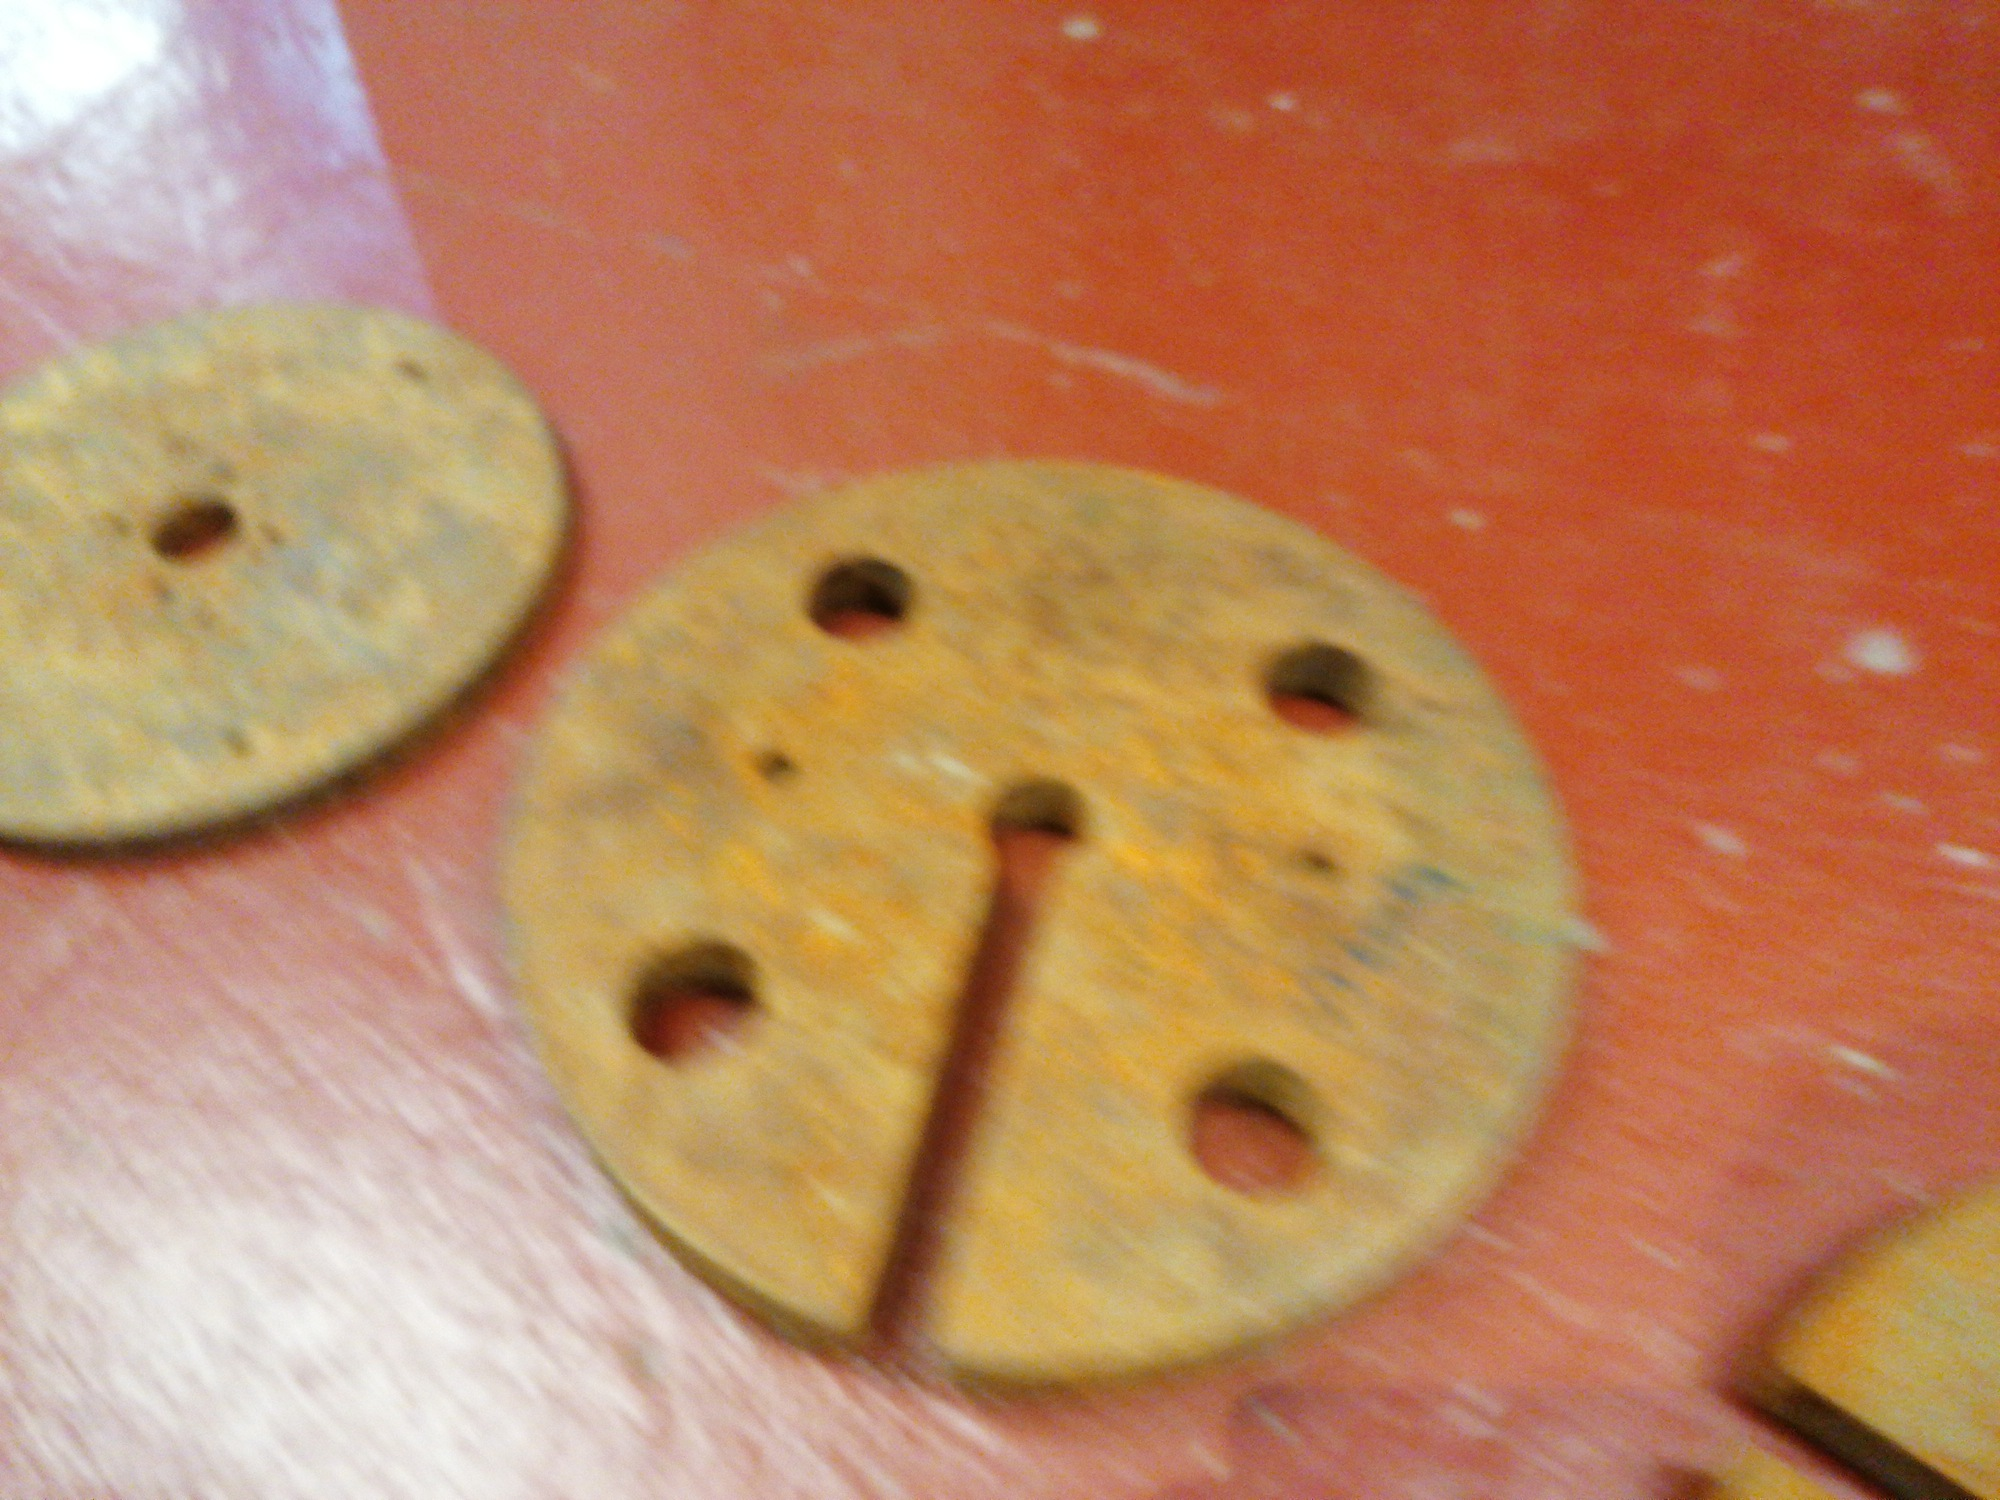flange: (491, 455, 1584, 1405), (0, 296, 580, 868), (1676, 1179, 1998, 1500)
